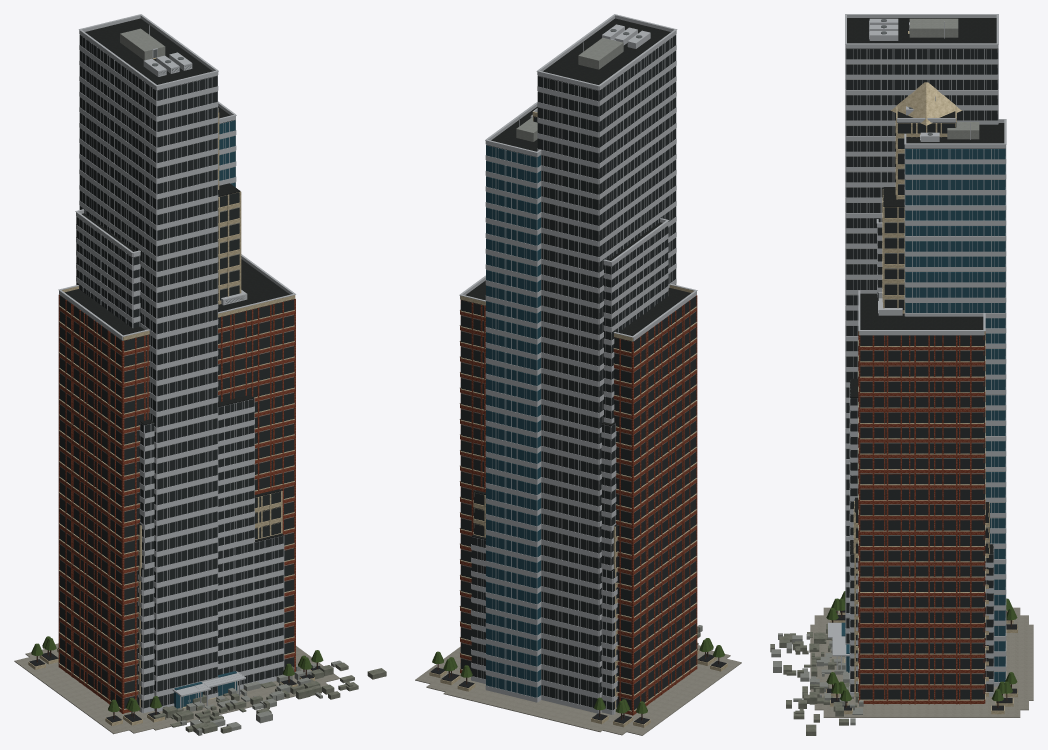
Rendered from highrise_01.glb.
3 renders of one model, left to right at view 1: azimuth 30°, elevation 25°; view 2: azimuth 150°, elevation 25°; view 3: azimuth 270°, elevation 25°, orthographic.
Parts seen in each view (by area): view 1: main_tower/lod1_band_02 (×2), main_tower/lod1_band_01 (×2), main_tower/lod1_band_00 (×2), main_tower/lod1_band_04 (×2), main_tower/lod1_band_03 (×2), west_wing/roof_plant (×2), main_tower/lod1_band_05 (×2), west_wing/lod1_band_08, west_wing/lod1_band_09, west_wing/lod1_band_07, main_tower/roof_plant (×2), main_tower/ground_debris (×3) (+82 smaller); view 2: ground/paving (×4), west_wing/roof_plant (×2), west_wing/lod1_band_09, west_wing/lod1_band_08, main_tower/lod1_band_01 (×2), main_tower/lod1_band_02 (×2), main_tower/lod1_band_00 (×2), west_wing/lod1_band_07, main_tower/lod1_band_05, main_tower/lod1_band_04, main_tower/lod1_band_03, west_wing/lod1_band_05 (+124 smaller); view 3: main_tower/lod1_band_02 (×2), main_tower/lod1_band_00 (×2), main_tower/lod1_band_04, main_tower/lod1_band_01, ground/paving (×4), main_tower/lod1_band_03, main_tower/lod1_band_05, west_wing/roof_plant (×2), west_wing/lod1_band_09, east_wing/lod1_band_07, east_wing/lod1_band_06, main_tower/roof_plant (+73 smaller).
Boxes of the visible parts, x1,y1,x2,y2 form: main_tower/lod1_band_02 (×2): (58, 481, 294, 608); main_tower/lod1_band_01 (×2): (58, 544, 294, 661); main_tower/lod1_band_00 (×2): (58, 606, 294, 713); main_tower/lod1_band_04 (×2): (58, 357, 294, 501); main_tower/lod1_band_03 (×2): (58, 419, 294, 556); west_wing/roof_plant (×2): (79, 15, 218, 90); main_tower/lod1_band_05 (×2): (58, 295, 294, 451); west_wing/lod1_band_08: (79, 97, 218, 214); west_wing/lod1_band_09: (79, 35, 218, 152); west_wing/lod1_band_07: (79, 159, 218, 275); main_tower/roof_plant (×2): (59, 256, 295, 340); main_tower/ground_debris (×3): (153, 660, 386, 732); ground/paving (×4): (415, 645, 741, 735); west_wing/roof_plant (×2): (537, 15, 676, 90); west_wing/lod1_band_09: (537, 34, 676, 152); west_wing/lod1_band_08: (537, 97, 676, 214); main_tower/lod1_band_01 (×2): (460, 545, 697, 662); main_tower/lod1_band_02 (×2): (460, 483, 697, 610); main_tower/lod1_band_00 (×2): (460, 608, 697, 715); west_wing/lod1_band_07: (541, 160, 676, 277); main_tower/lod1_band_05: (460, 296, 697, 404); main_tower/lod1_band_04: (460, 358, 697, 466); main_tower/lod1_band_03: (460, 421, 697, 529); west_wing/lod1_band_05: (541, 284, 676, 402); main_tower/lod1_band_02 (×2): (854, 499, 989, 581); main_tower/lod1_band_00 (×2): (849, 643, 993, 704); main_tower/lod1_band_04: (858, 397, 985, 458); main_tower/lod1_band_01: (858, 581, 985, 643); ground/paving (×4): (810, 607, 1033, 717); main_tower/lod1_band_03: (858, 458, 985, 520); main_tower/lod1_band_05: (858, 335, 985, 397); west_wing/roof_plant (×2): (845, 15, 998, 48); west_wing/lod1_band_09: (845, 45, 998, 110); east_wing/lod1_band_07: (904, 195, 1006, 256); east_wing/lod1_band_06: (904, 256, 1006, 317); main_tower/roof_plant: (858, 292, 984, 335).
Size of the model in its own units: 67.58 by 157 by 58.94.
Materials: 17 (17 with a texture image).
